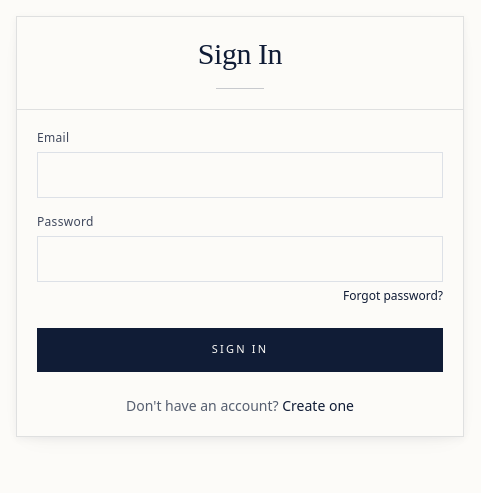
login: remember customer email › does not remember an email when sign-in fails
The width and height of the screenshot is (481, 493).
In the field labelled "Email": (240, 174) left=37, top=152, right=443, bottom=198, type "customer@example.com"
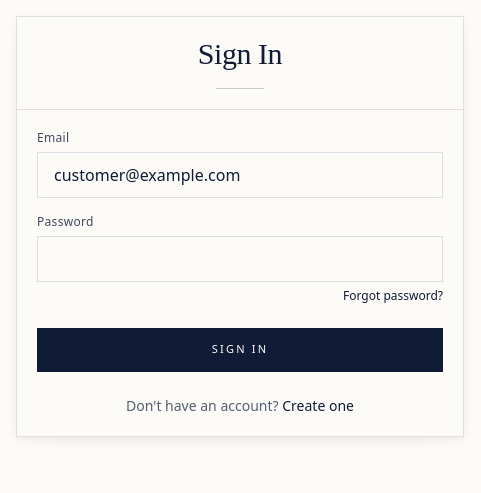
In the password field labelled "Password": (240, 258) left=37, top=236, right=443, bottom=282, type "wrong-password"
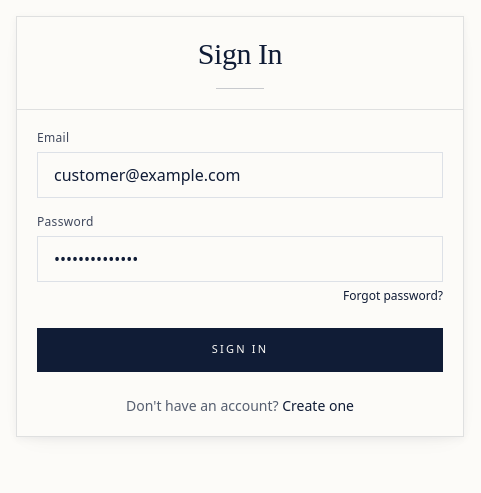
Click the button "Sign In": (240, 350) left=37, top=328, right=443, bottom=372
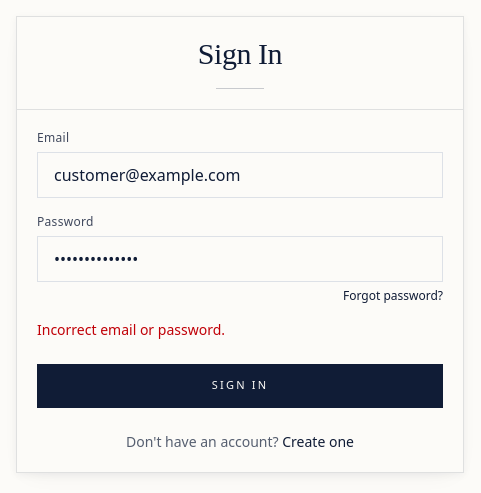
Check: the message "Incorrect email or password." is shown, box left=37, top=320, right=225, bottom=338
